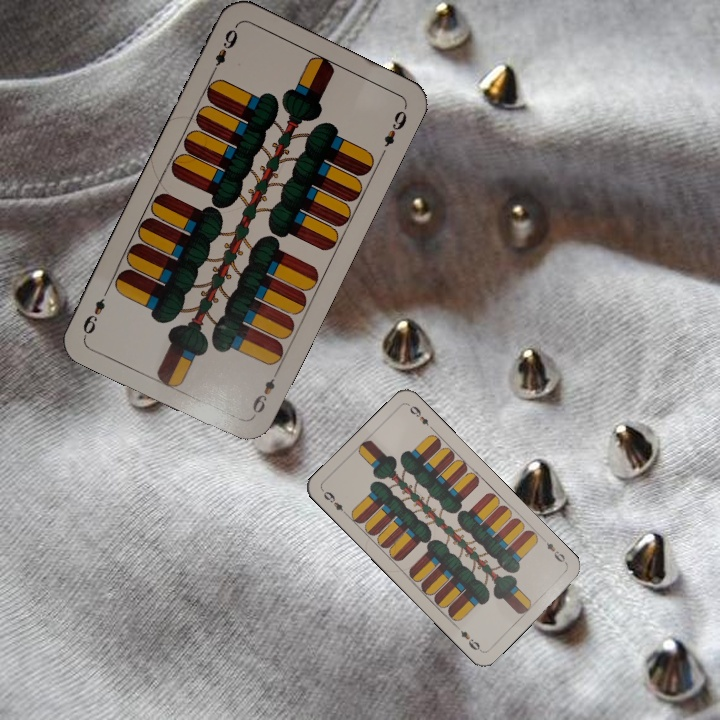E9: (207, 22, 241, 77), (248, 374, 278, 416), (538, 534, 570, 567), (319, 487, 351, 519)
